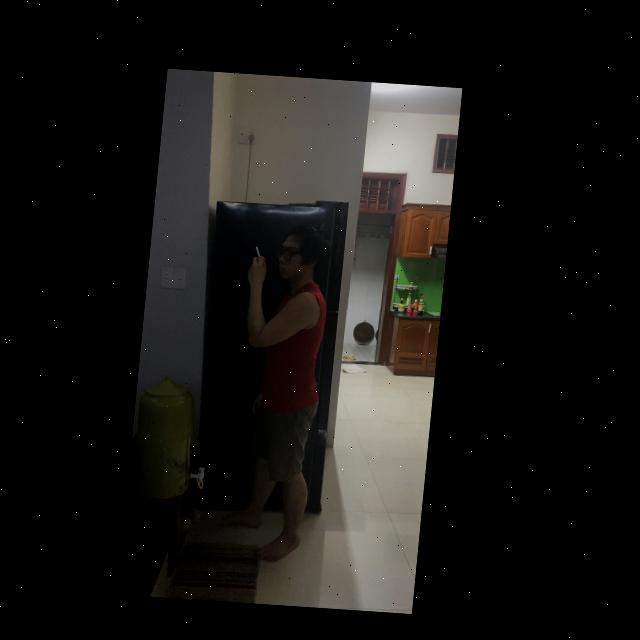cigarette: (259, 243, 265, 253)
